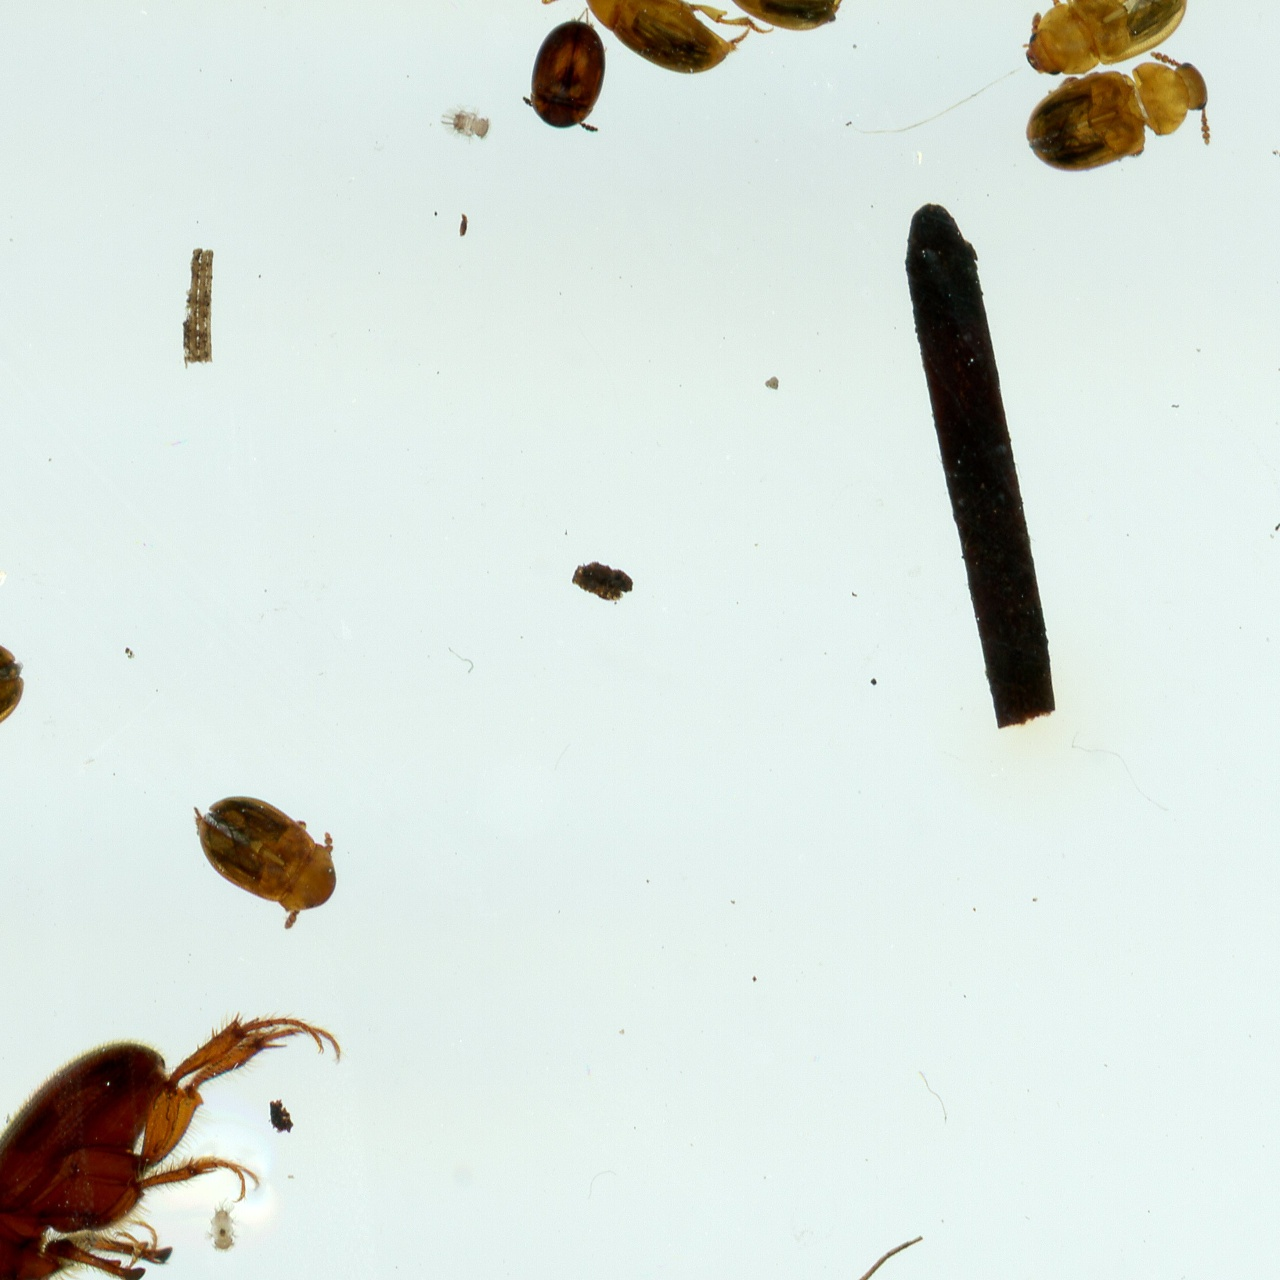arthropod: (0, 986, 347, 1280), (181, 776, 355, 938), (1028, 63, 1214, 171), (1022, 0, 1175, 86), (581, 0, 714, 97), (524, 15, 604, 138), (0, 634, 39, 757), (701, 0, 878, 25), (195, 1194, 241, 1258), (437, 103, 486, 142)
